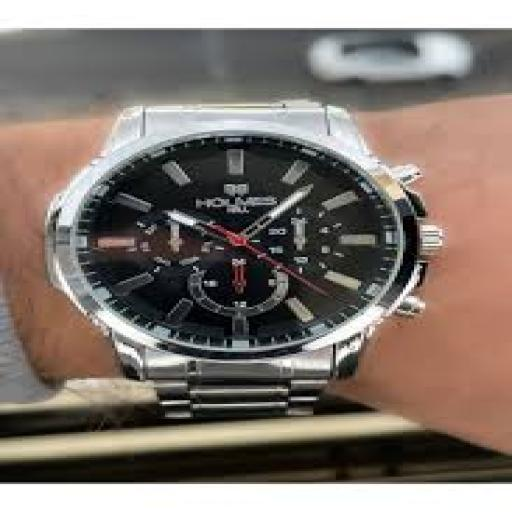KolSaati: (38, 70, 469, 421)
